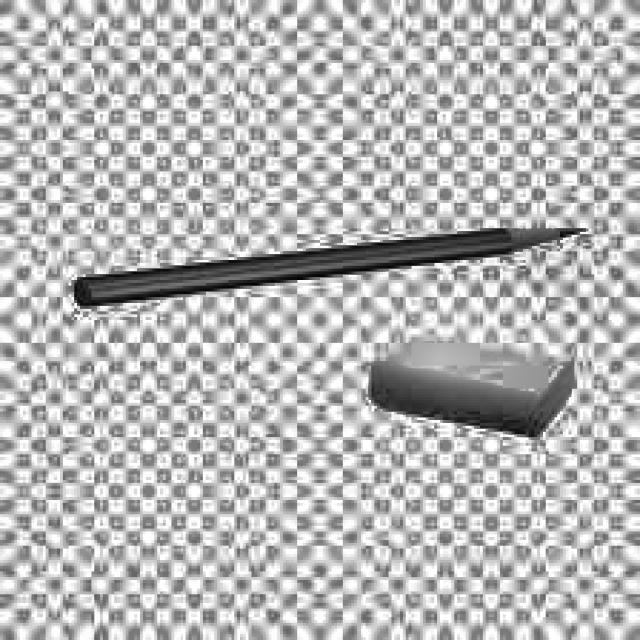eraser: (365, 326, 577, 444)
